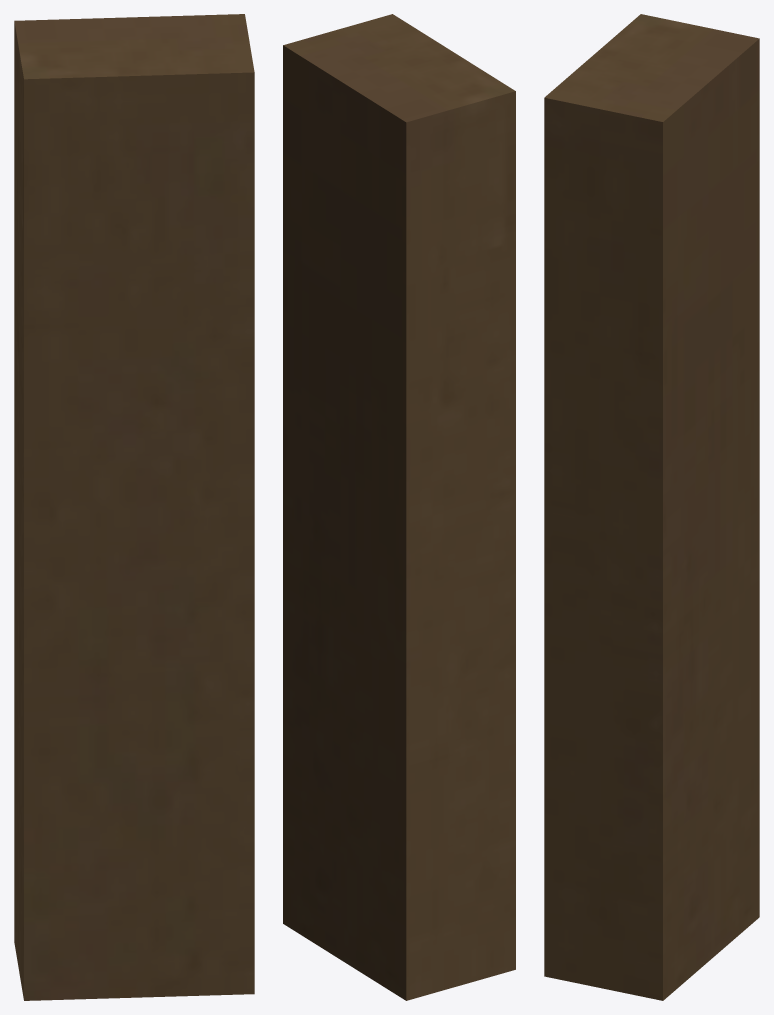
File: backrest__support_bar.glb
3 views of the same model, side by side, from view 1: azimuth 30°, elevation 25°; view 2: azimuth 150°, elevation 25°; view 3: azimuth 270°, elevation 25° (orthographic). The views are drawn at different scales.
Parts seen in each view (by area): view 1: geometry_0; view 2: geometry_0; view 3: geometry_0.
Boxes of the visible parts, box(x1,y1,x2,y2) form: geometry_0: box(14, 14, 254, 1000); geometry_0: box(283, 14, 515, 1000); geometry_0: box(544, 14, 759, 1000).
Size of the model in its own units: 0.0581 by 0.22 by 0.0489.
1 material, 1 textured.
